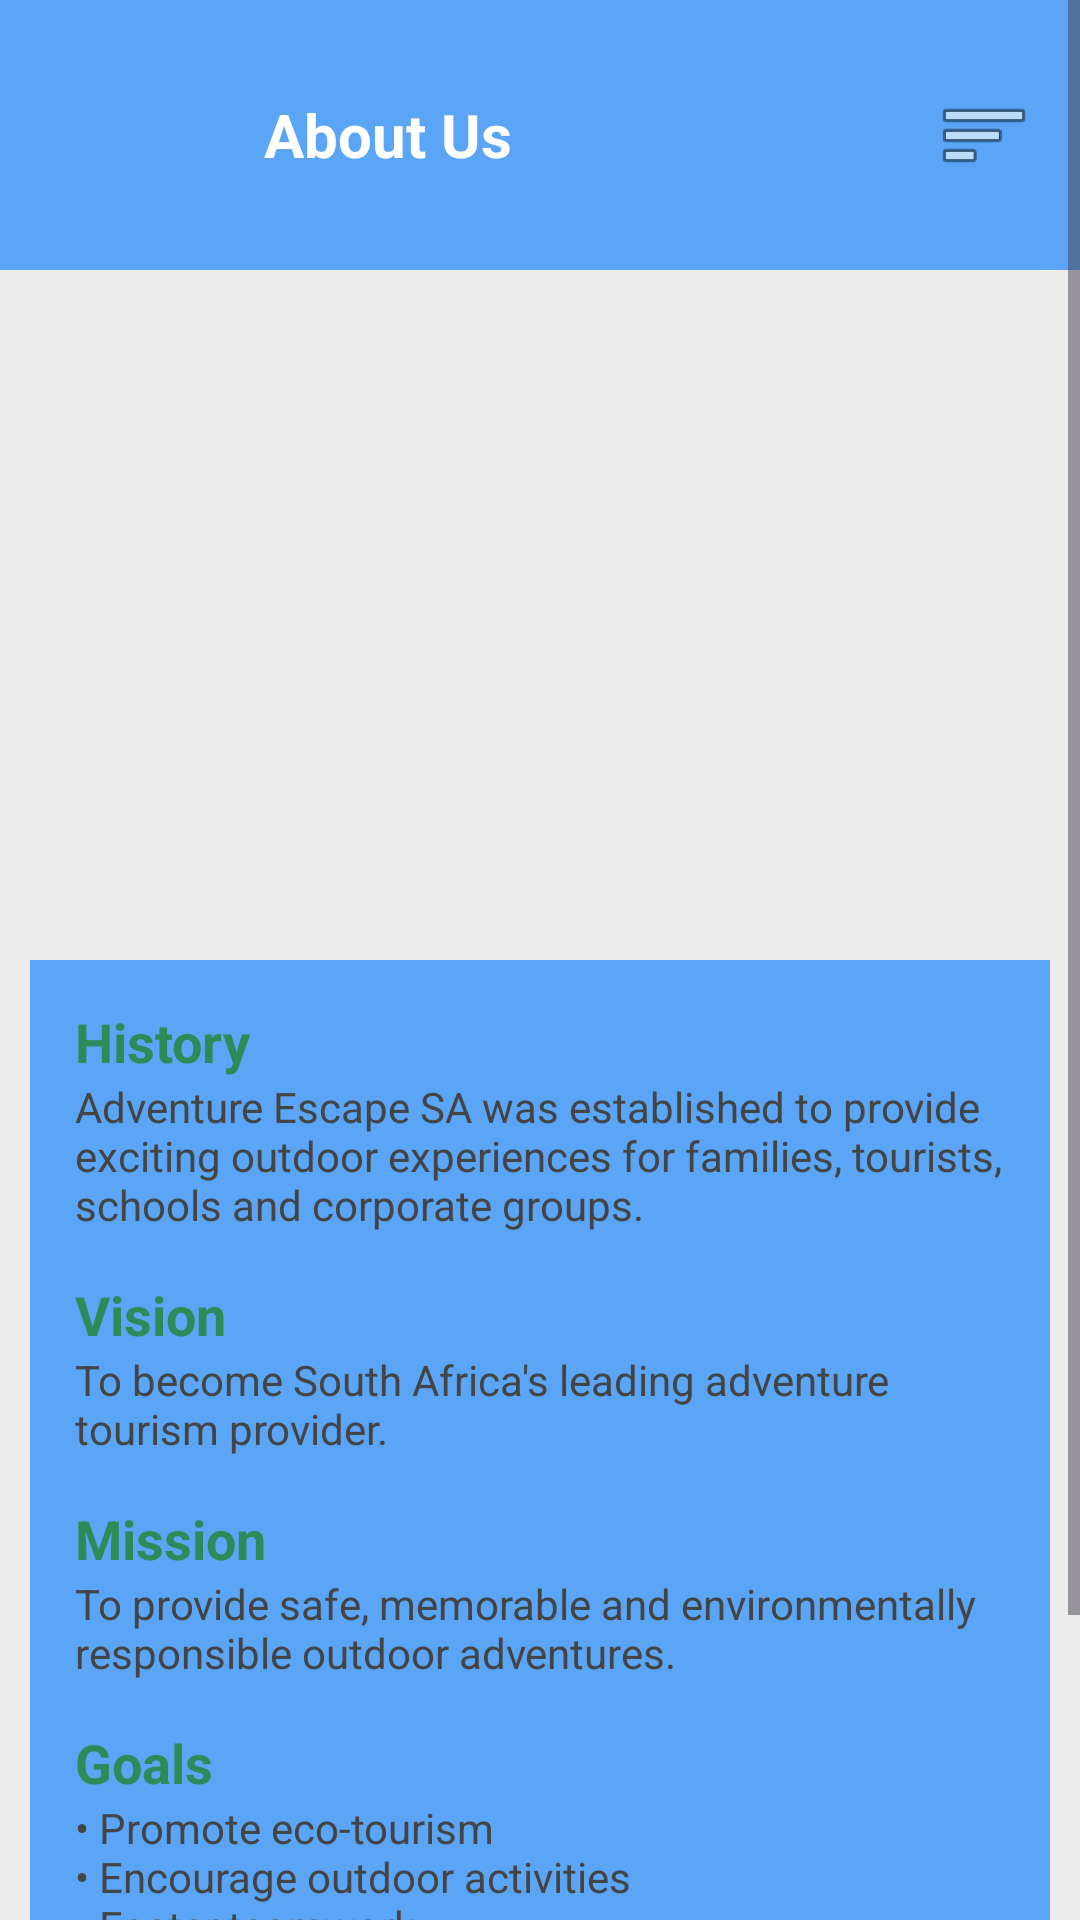

Where icons sit on this 1080 × 1920 app screen, as bbox=(x1, y1, x2, y2):
sort by size: bbox=(943, 109, 1025, 162)
